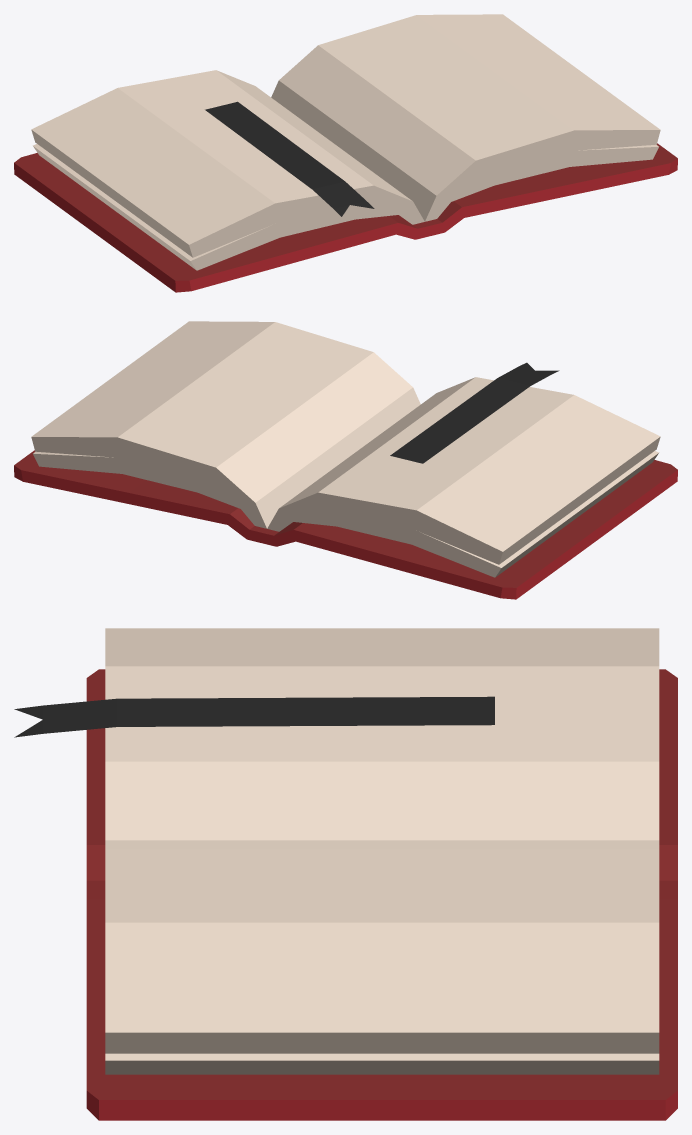
Rendered from book-open.glb.
The picture shows the model from 3 angles, top to bottom: view 1: azimuth 30°, elevation 25°; view 2: azimuth 150°, elevation 25°; view 3: azimuth 270°, elevation 25°; orthographic projection. The views are drawn at different scales.
Visible parts, largest first — view 1: book-open; view 2: book-open; view 3: book-open.
Boxes of the visible parts, <box> form: book-open: <box>14,14,677,292</box>; book-open: <box>14,321,677,599</box>; book-open: <box>14,628,677,1120</box>.
Size of the model in its own units: 0.8276 by 0.1068 by 0.5393.
1 material, 1 textured.
